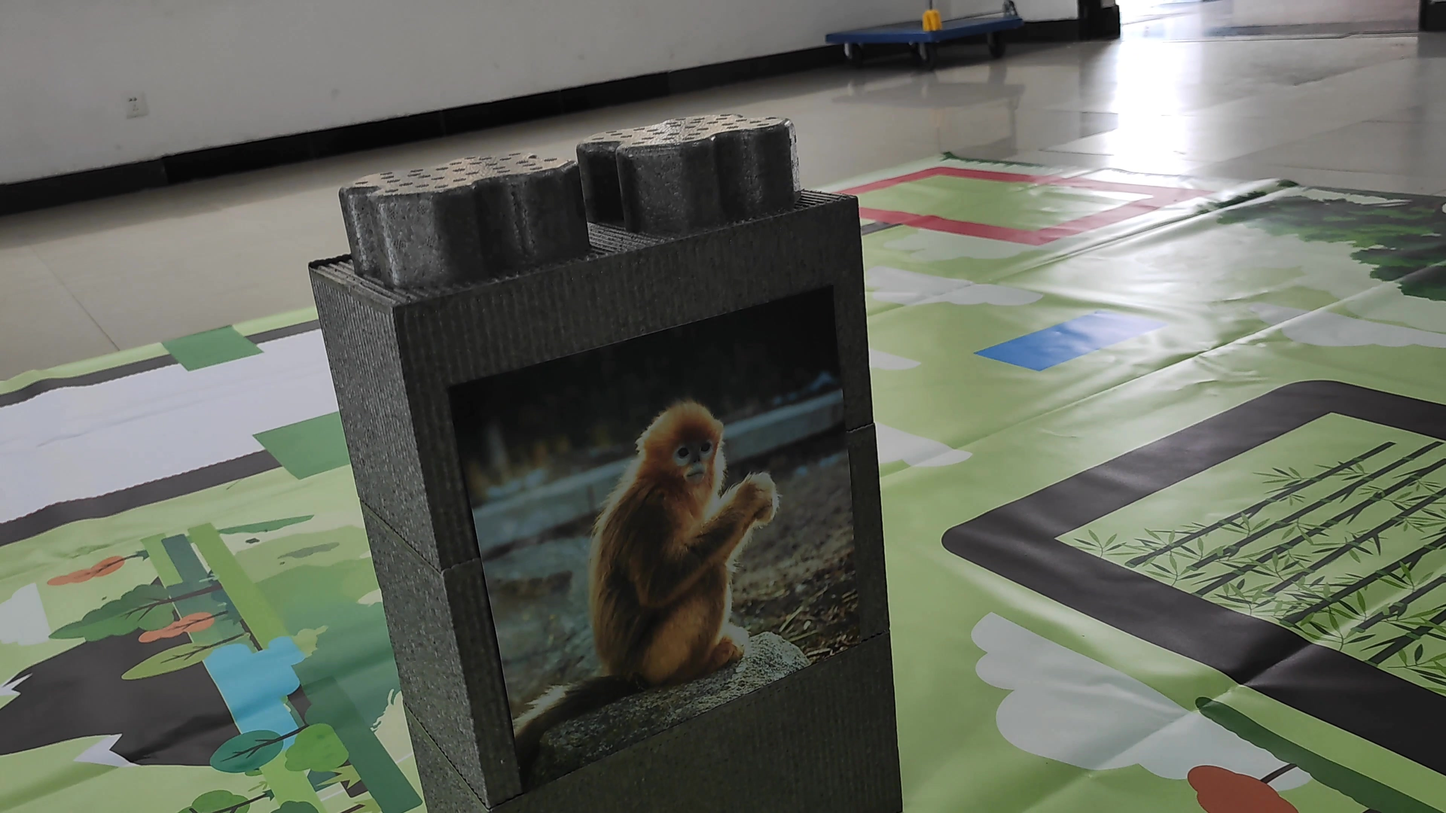monkey: (508, 387, 800, 760)
